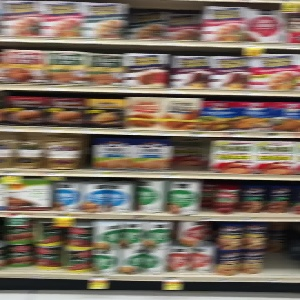void: (266, 219, 300, 279), (171, 134, 206, 173)
